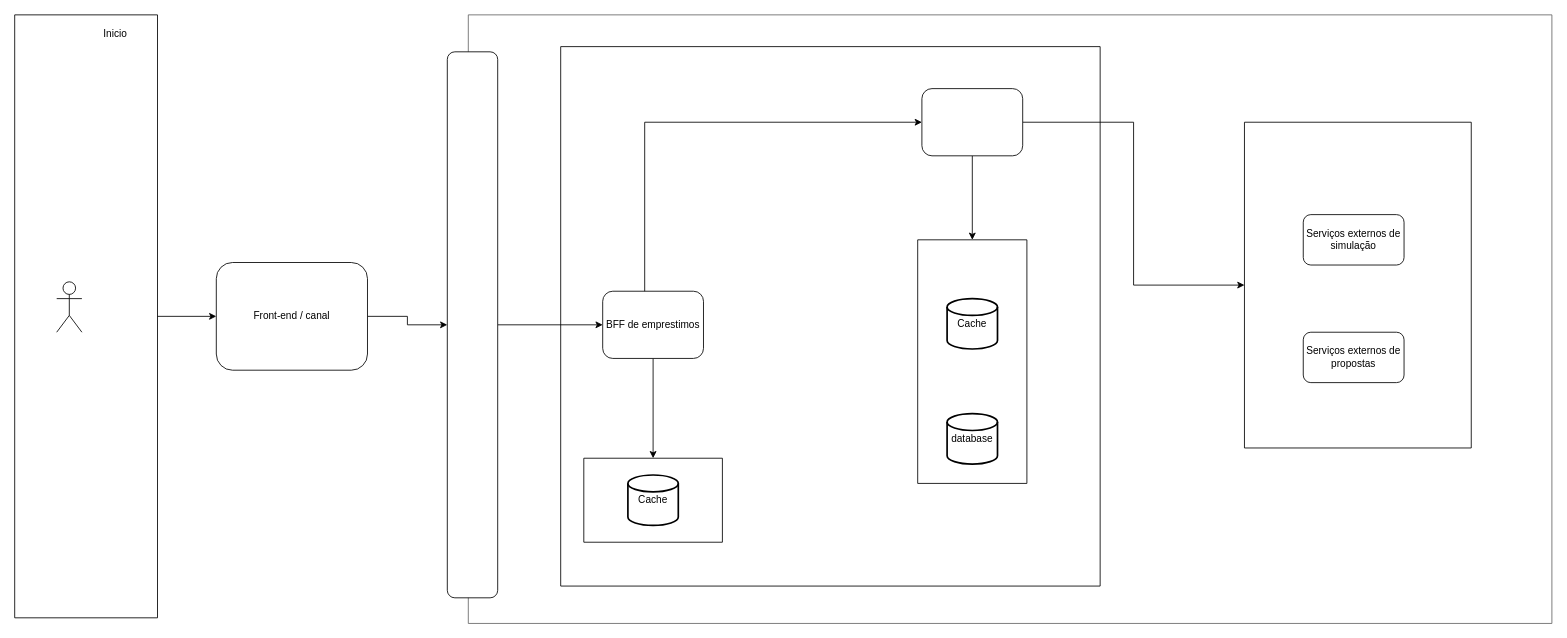
The diagram is 1567 pixels wide and 638 high, and some of its shapes have lost their labels. Here are the shapes that lost their labels. From the top down, the box of each, then its label:
(921, 88, 1023, 156): Microsserviço de emprestimos
(56, 281, 82, 332): Cliente
(446, 51, 498, 598): API Gateway
